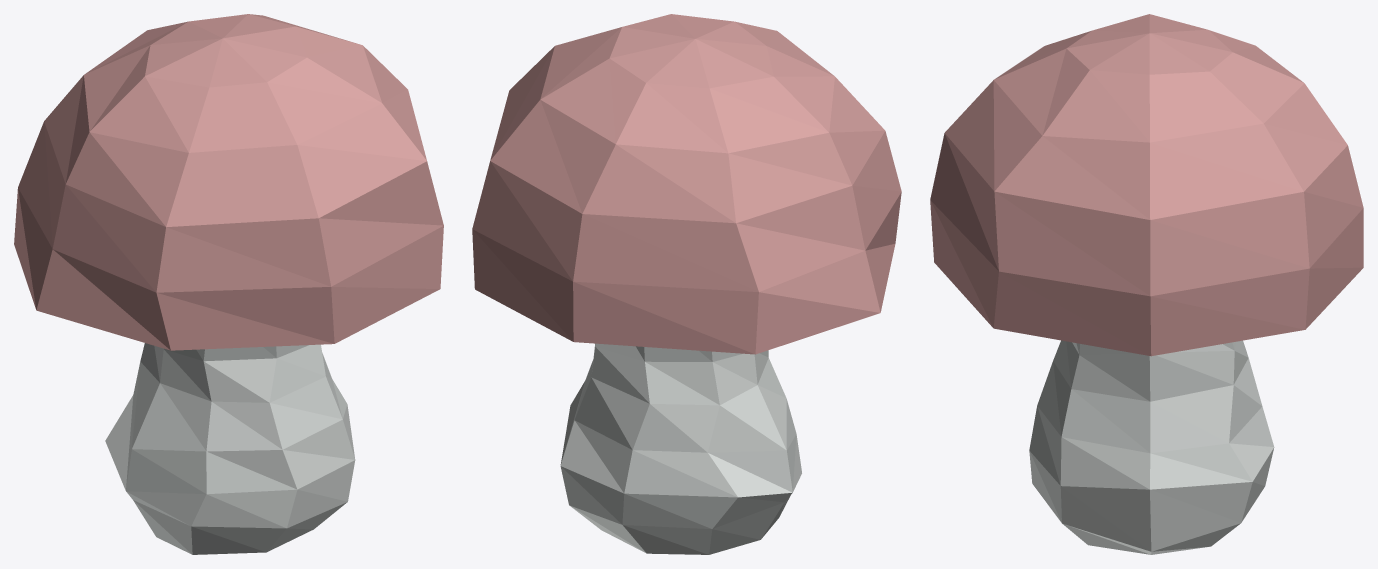
The model's file is IngridientMushroom.fbx.
The picture shows the model from 3 angles, left to right: view 1: azimuth 30°, elevation 25°; view 2: azimuth 150°, elevation 25°; view 3: azimuth 270°, elevation 25°; orthographic projection.
Visible parts, largest first — view 1: Top, Bottom; view 2: Top, Bottom; view 3: Top, Bottom.
Boxes of the visible parts, x1,y1,x2,y2 form: Top: (14, 14, 443, 350); Bottom: (105, 343, 355, 554); Top: (472, 14, 901, 354); Bottom: (560, 343, 801, 554); Top: (930, 14, 1363, 356); Bottom: (1029, 340, 1274, 554).
Size of the model in its own units: 5.41 by 6.46 by 5.26.
